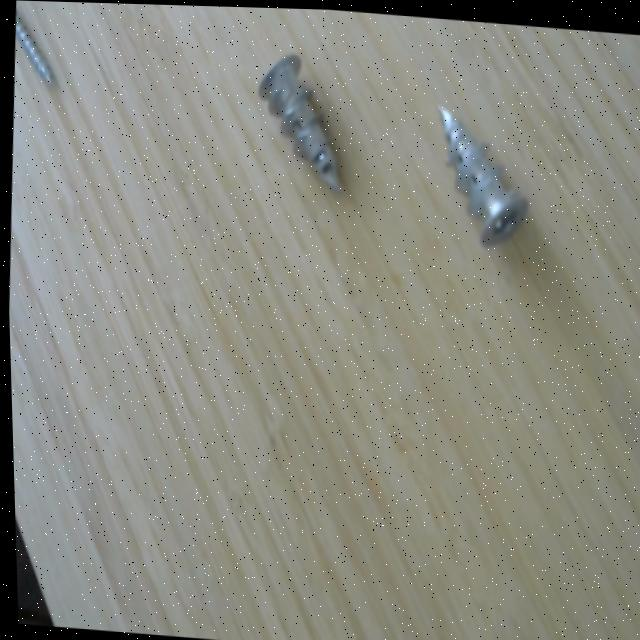Short screw: (426, 86, 540, 262), (248, 34, 358, 203)
